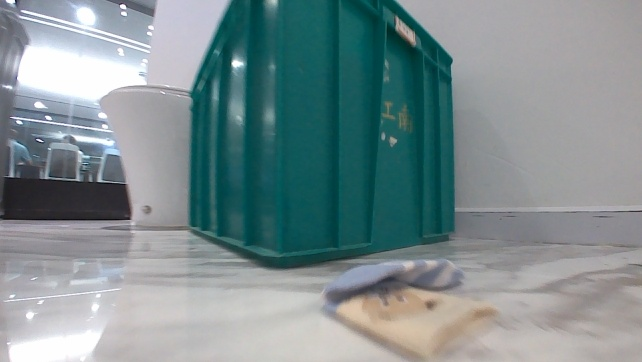socks: (316, 253, 500, 361)
toilet: (96, 83, 195, 231)
